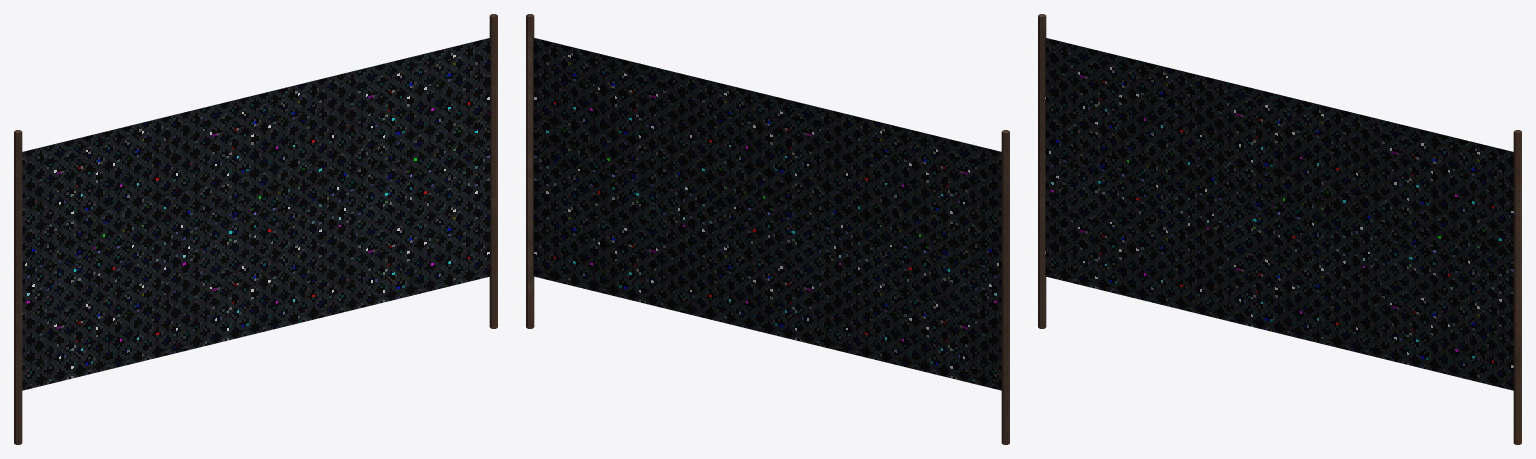
File: metalfence_both_sides_no_topbar.glb
3 renders of one model, left to right at view 1: azimuth 30°, elevation 25°; view 2: azimuth 150°, elevation 25°; view 3: azimuth 330°, elevation 25°, orthographic.
Parts seen in each view (by area): view 1: metalfence_both_sides_no_topbar; view 2: metalfence_both_sides_no_topbar; view 3: metalfence_both_sides_no_topbar.
Part boxes in pixels (bbox=[...]): metalfence_both_sides_no_topbar: bbox=[14, 14, 497, 444]; metalfence_both_sides_no_topbar: bbox=[526, 14, 1009, 444]; metalfence_both_sides_no_topbar: bbox=[1038, 14, 1521, 444].
Size of the model in its own units: 2.7 by 1.67 by 0.04.
Materials: 2 (2 with a texture image).
